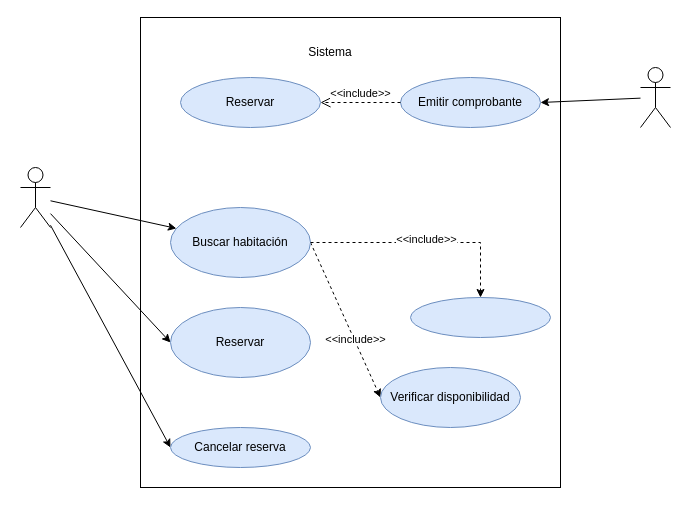
The diagram is 688 pixels wide and 505 high, and some of its shapes have lost their labels. Here are the shapes that lost their labels. From the top down, the centre of each, then its label:
At pixel 655 97: "Hotel".
At pixel 35 197: "Cliente".
At pixel 480 317: "Validar usuario".
